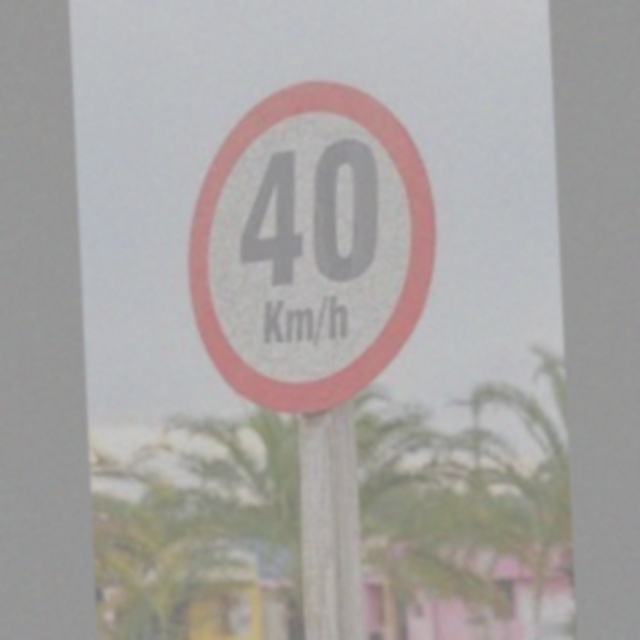Speed_Limit_40: (186, 75, 443, 404)
